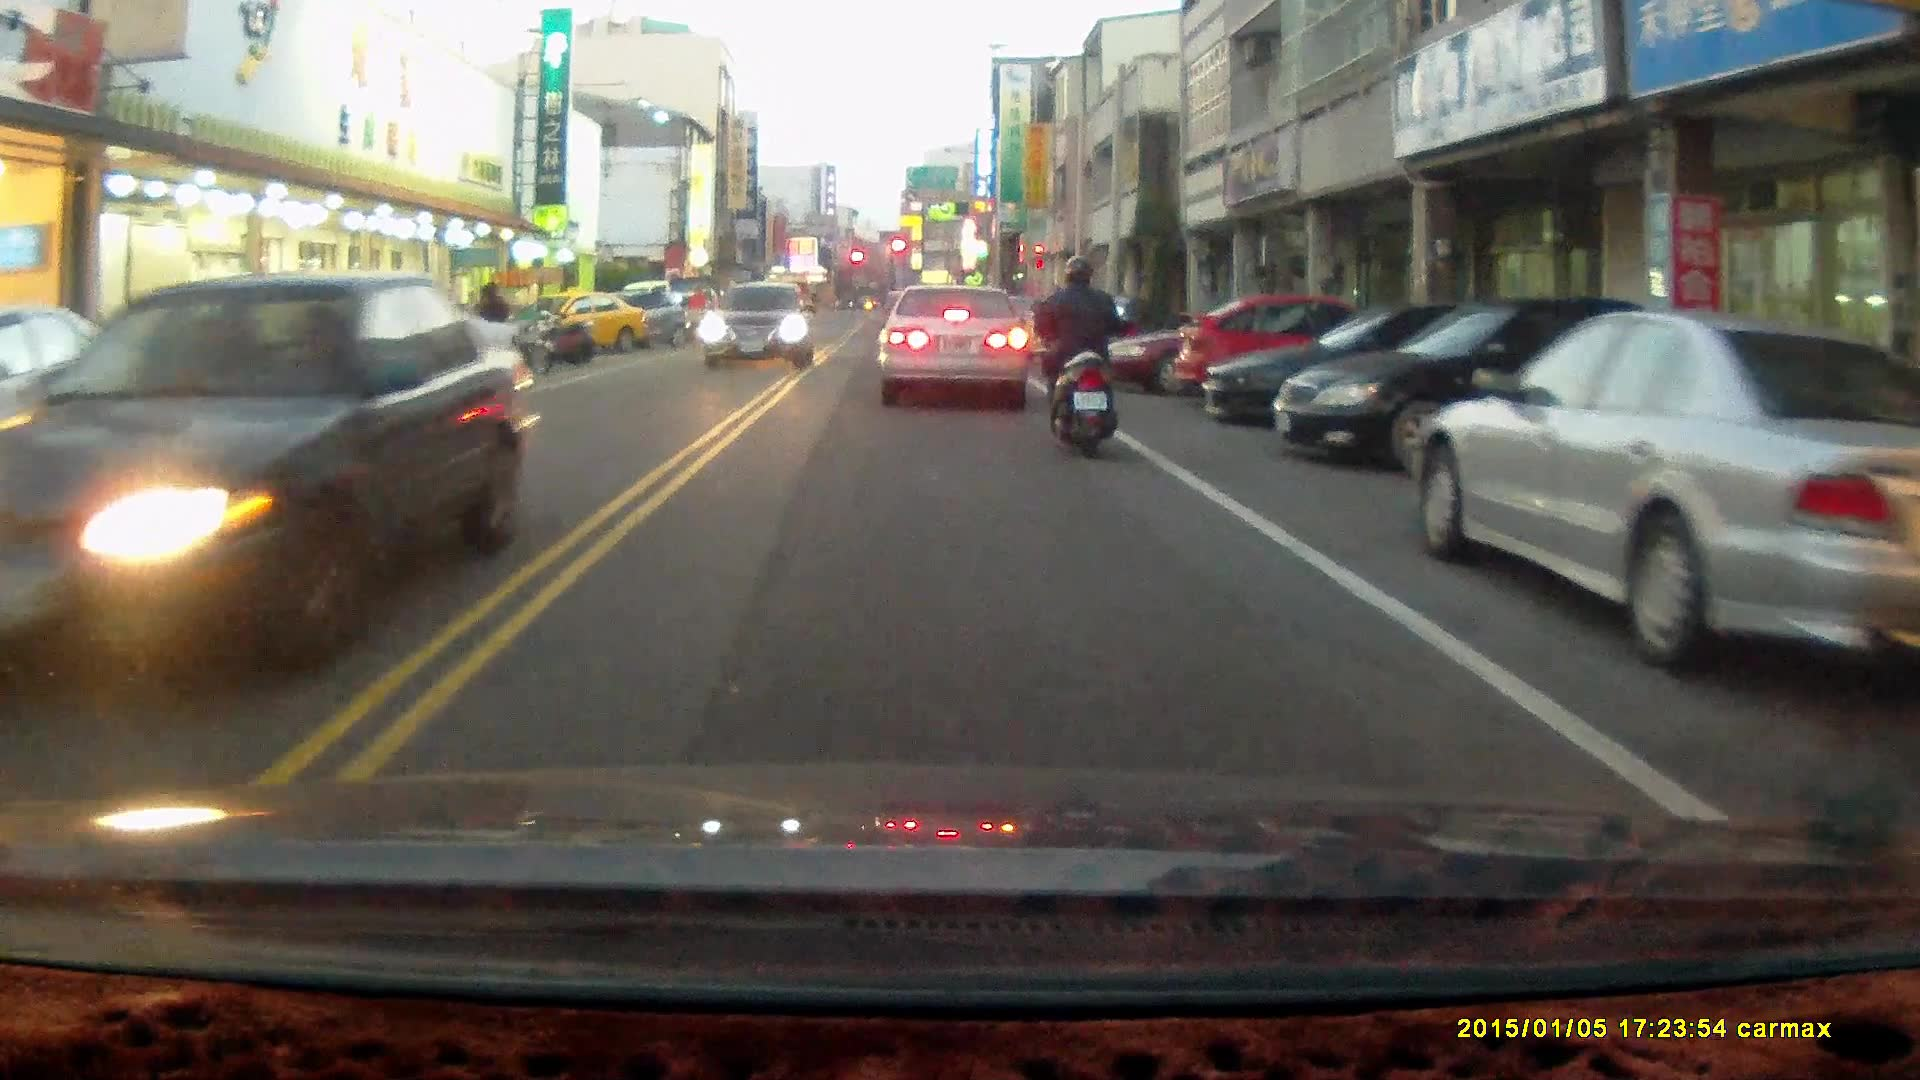pedestrian: (477, 282, 510, 346)
rider: (1032, 252, 1127, 459), (682, 288, 712, 358)
vehicle: (1, 275, 541, 681), (1411, 311, 1920, 672), (1272, 296, 1658, 473), (1199, 307, 1574, 435), (1170, 300, 1401, 415), (0, 303, 117, 521), (876, 285, 1030, 412), (704, 282, 817, 374), (524, 288, 647, 361)
